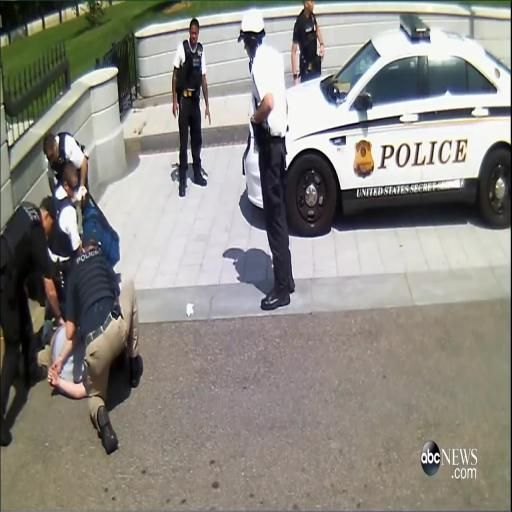Guns: (171, 158, 179, 174)
